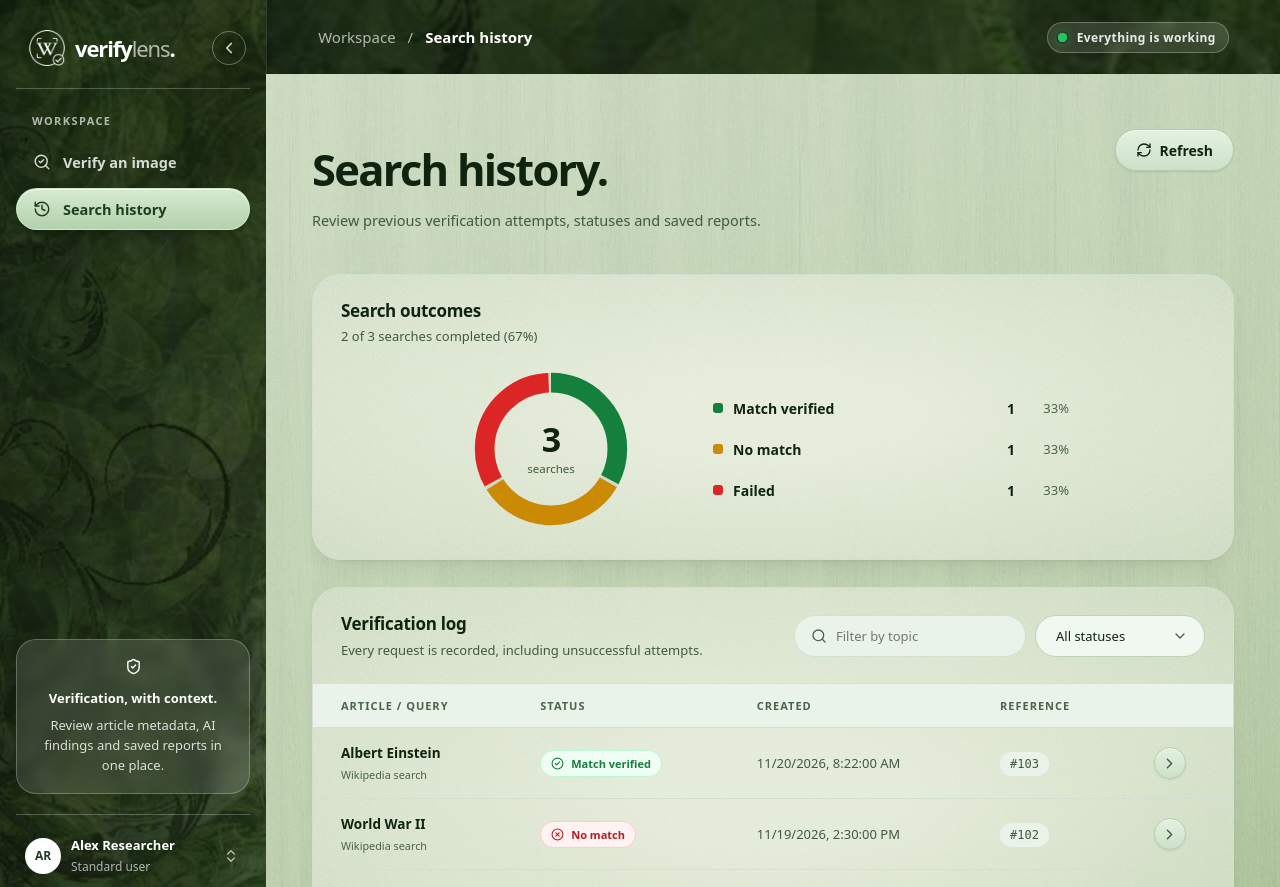
Test: search history › sends the status filter to the server and keeps it in the URL
The width and height of the screenshot is (1280, 887).
Step 1. Click the dropdown named "Filter by status" → point(1120, 636), box [1035,615,1205,657]
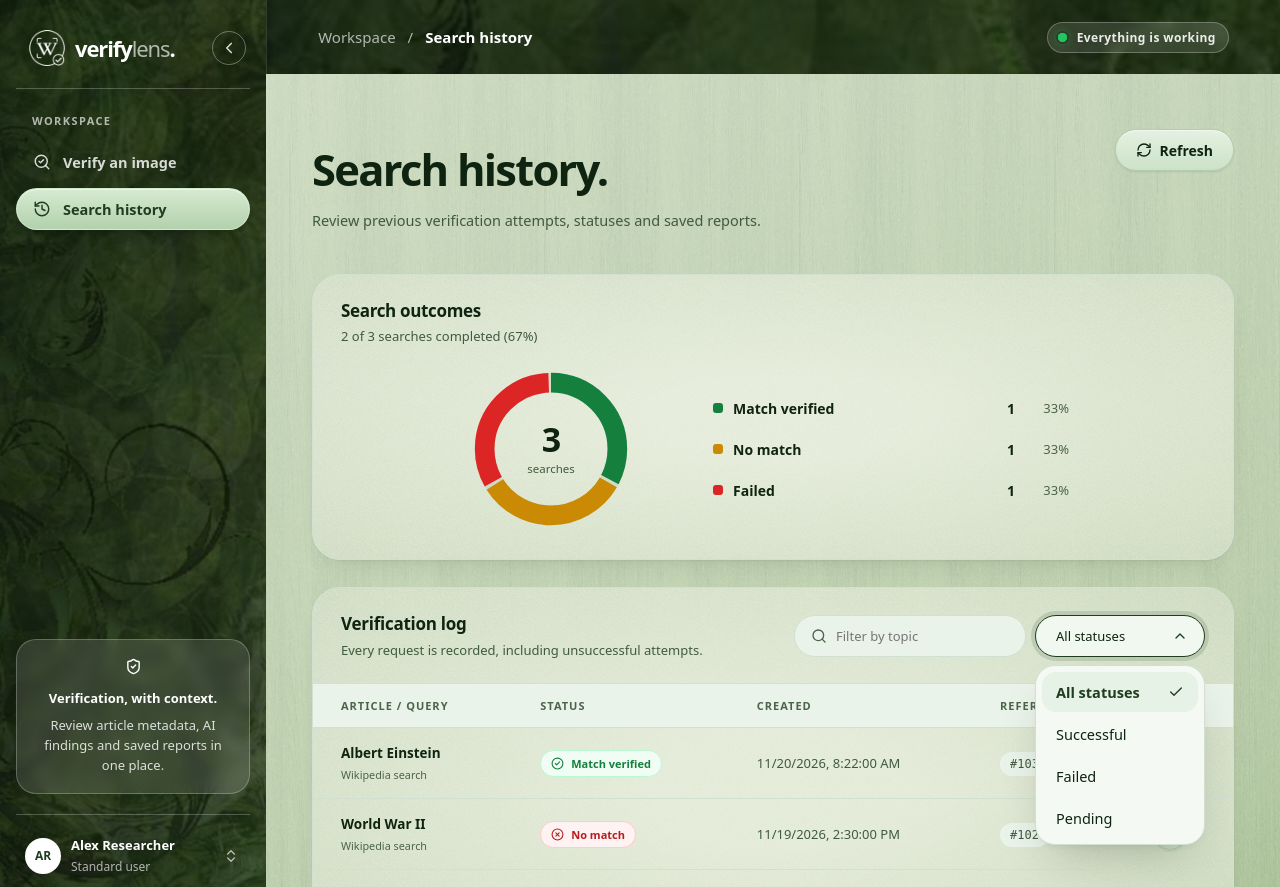
Step 2. Click the option "Failed" → point(1076, 776), box [1056,766,1096,786]
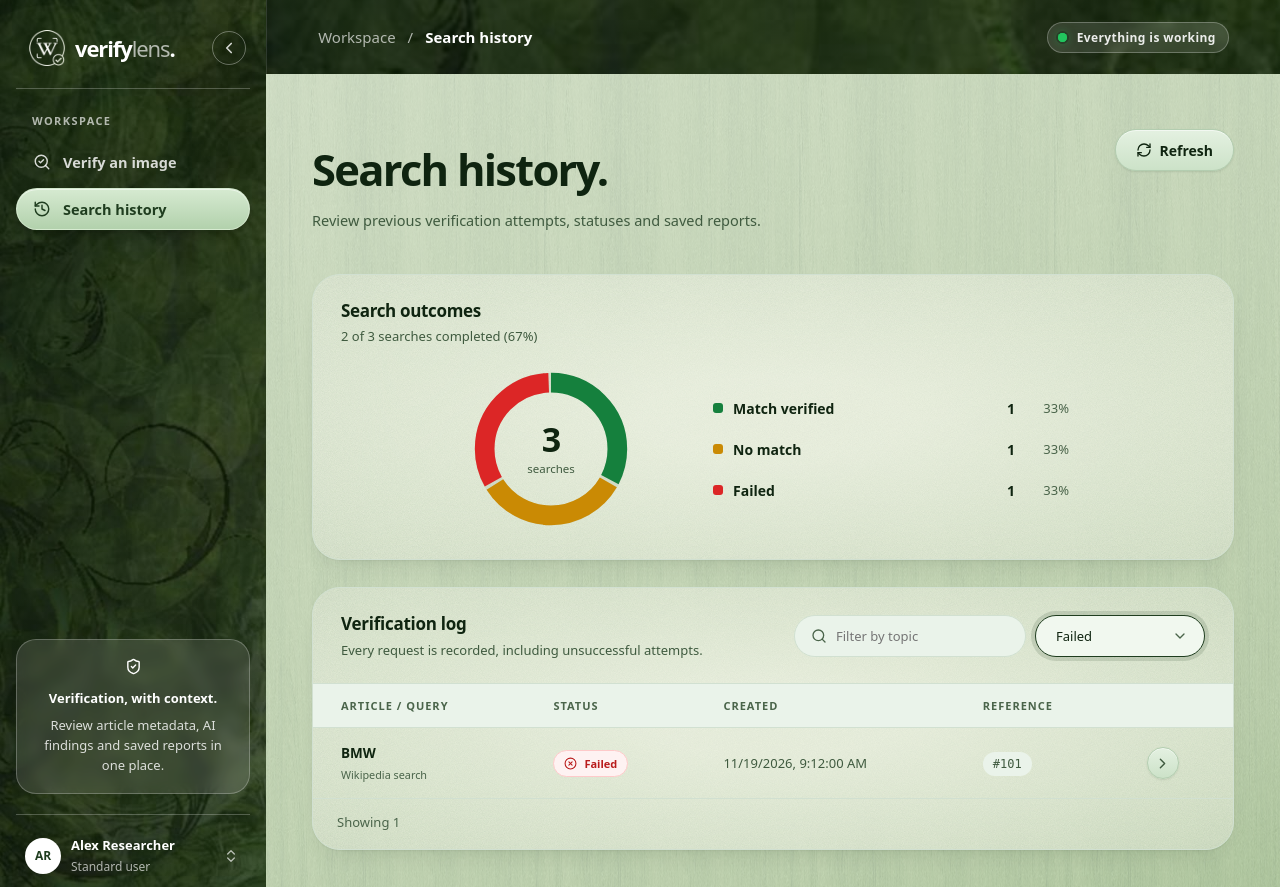
Expected: the text "Albert Einstein" is gone
